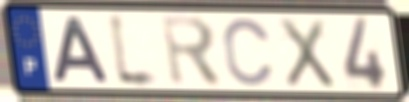4: (340, 15, 389, 92)
A: (52, 14, 114, 85)
C: (221, 15, 277, 89)
L: (106, 9, 165, 92)
R: (159, 13, 225, 89)
X: (276, 16, 338, 91)
